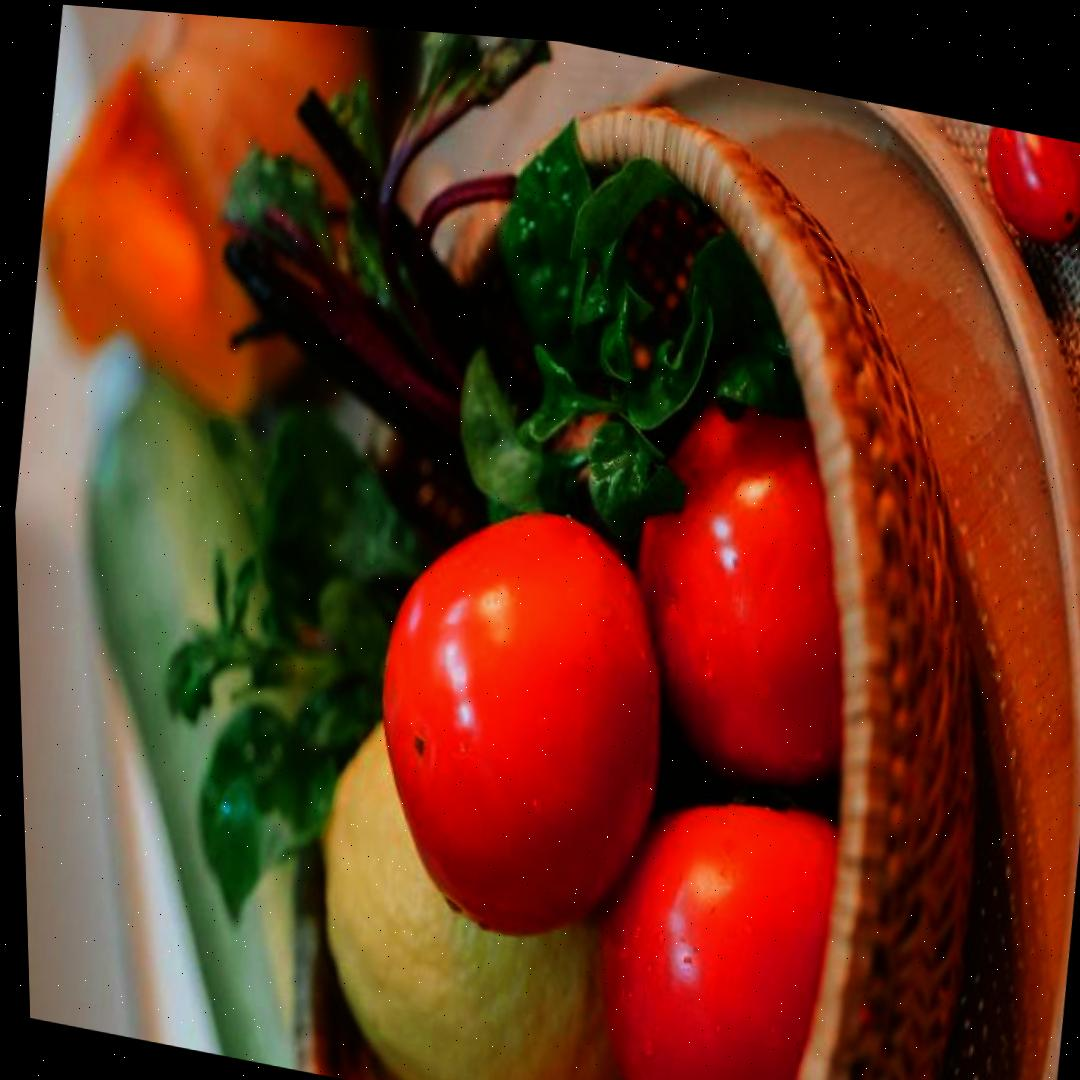matang: (603, 316, 954, 822), (345, 478, 692, 965), (576, 764, 915, 1080), (976, 122, 1080, 245)
